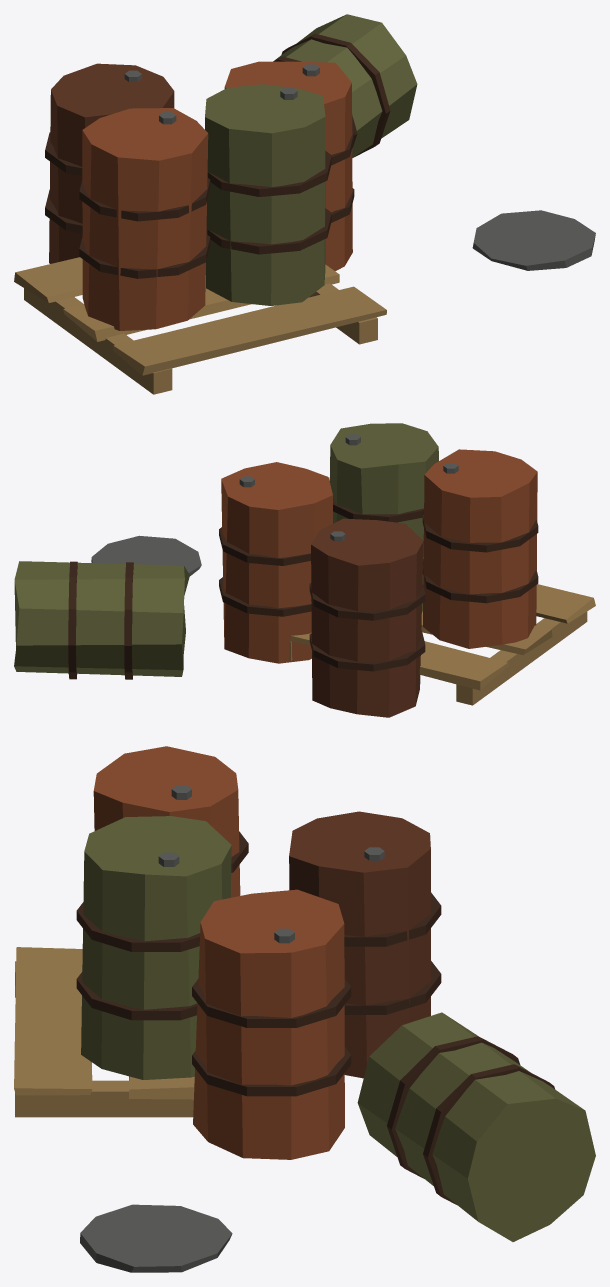
File: drums.glb
The picture shows the model from 3 angles, top to bottom: view 1: azimuth 30°, elevation 25°; view 2: azimuth 150°, elevation 25°; view 3: azimuth 270°, elevation 25°; orthographic projection. The views are drawn at different scales.
Parts seen in each view (by area): view 1: drums; view 2: drums; view 3: drums.
Boxes of the visible parts, <box> form: drums: <box>14,14,595,394</box>; drums: <box>14,423,595,717</box>; drums: <box>14,746,595,1272</box>.
Bounding box in the file's own units: 2.69 × 1.07 × 2.27.
